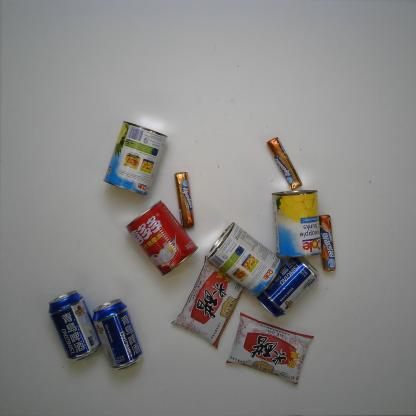Alcohol: (257, 260, 328, 320), (48, 287, 102, 363), (93, 301, 144, 371)
Candy: (262, 130, 308, 192), (315, 212, 338, 274), (172, 171, 196, 228)
Canned Food: (125, 201, 202, 271), (209, 222, 281, 296), (106, 119, 167, 196), (268, 186, 322, 257)
Seasoner: (224, 318, 321, 386), (175, 255, 248, 344)
